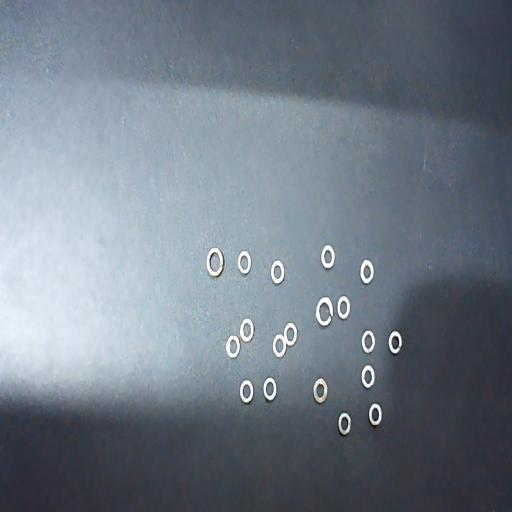washer: (207, 246, 224, 276), (316, 298, 333, 327), (313, 379, 328, 404), (360, 260, 374, 285), (240, 319, 254, 343), (263, 378, 277, 402), (284, 323, 298, 347), (361, 366, 375, 390), (240, 380, 254, 403), (271, 260, 284, 284), (322, 244, 335, 268), (389, 331, 402, 355), (369, 404, 382, 428), (226, 336, 240, 358), (361, 332, 375, 354), (273, 335, 286, 358), (337, 297, 350, 320), (338, 414, 351, 437), (238, 250, 250, 274)
